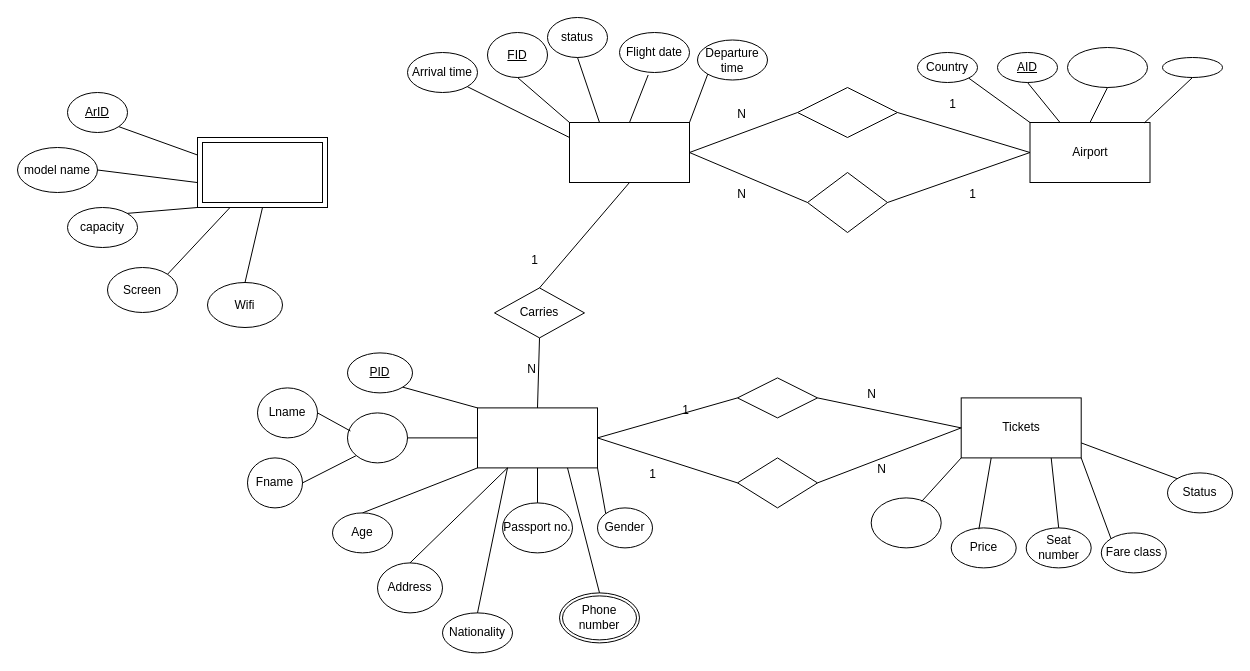
Image size: 1250x671. Some labels were removed from this diagram. The box of each missing label's shape, as (x1, y1, x2, y2) in pixels:
Aircraft: (196, 136, 328, 208)
Airport name: (1066, 46, 1148, 88)
Book: (736, 377, 818, 418)
Cancel: (736, 457, 818, 508)
City: (1162, 56, 1222, 78)
Destination: (796, 86, 898, 138)
Flights: (568, 122, 690, 182)
name: (346, 412, 408, 463)
Origin: (806, 172, 888, 232)
Passengers: (476, 407, 598, 468)
TID: (870, 497, 941, 548)
